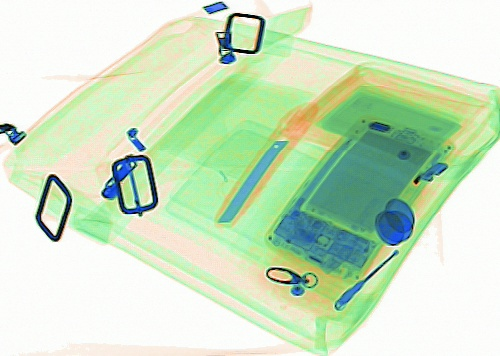knife: (211, 101, 319, 230)
